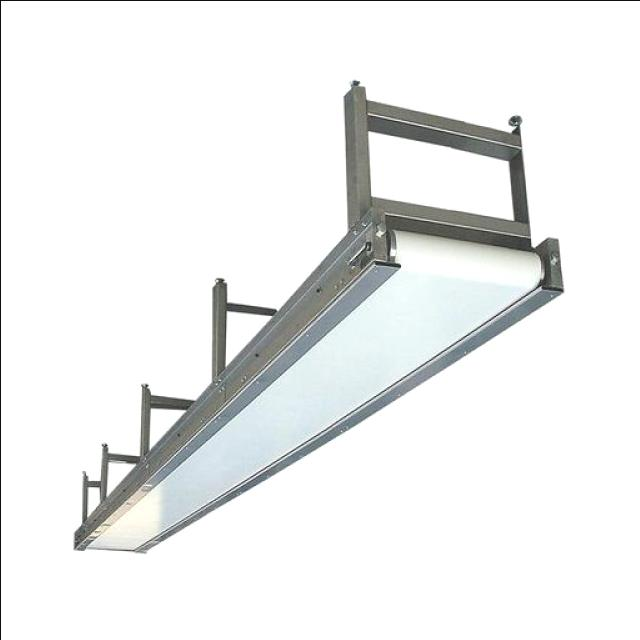conveyor: (78, 231, 550, 550)
